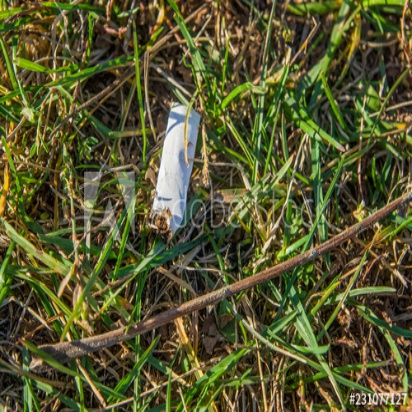cigarette: (146, 98, 201, 236)
